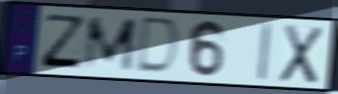6: (188, 18, 227, 80)
D: (133, 15, 182, 78)
I: (256, 21, 274, 83)
M: (82, 16, 139, 73)
X: (277, 22, 325, 86)
Z: (39, 12, 87, 71)
